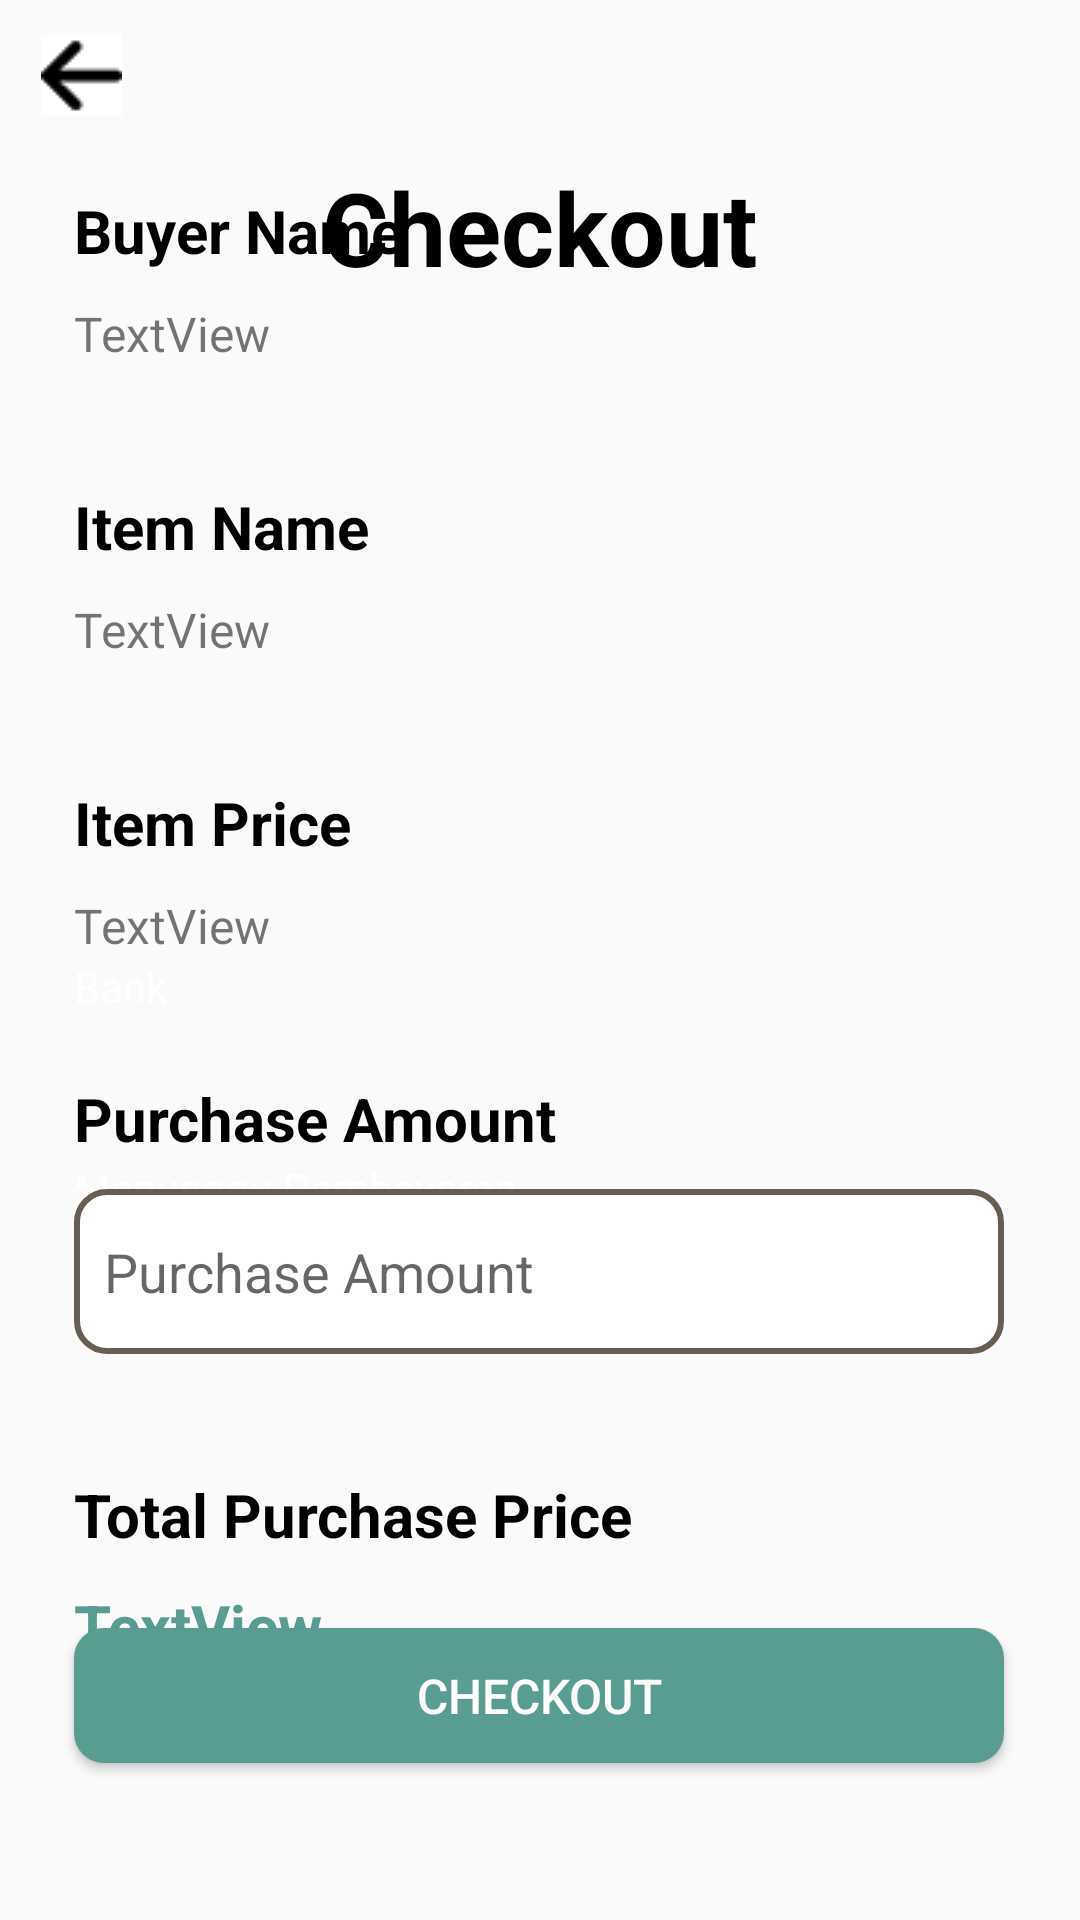

Named icons in this screenshot (1080px×1920px) and their centers, (x=x, y=y):
back: (x=81, y=75)
